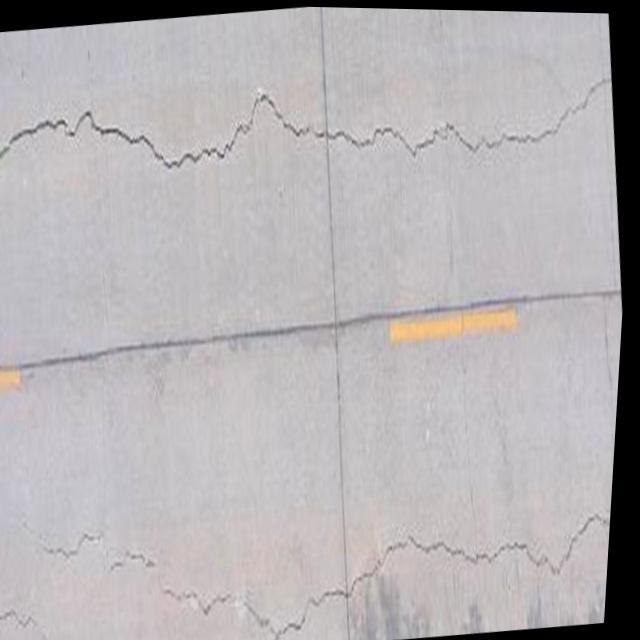Crack: (0, 24, 620, 225)
